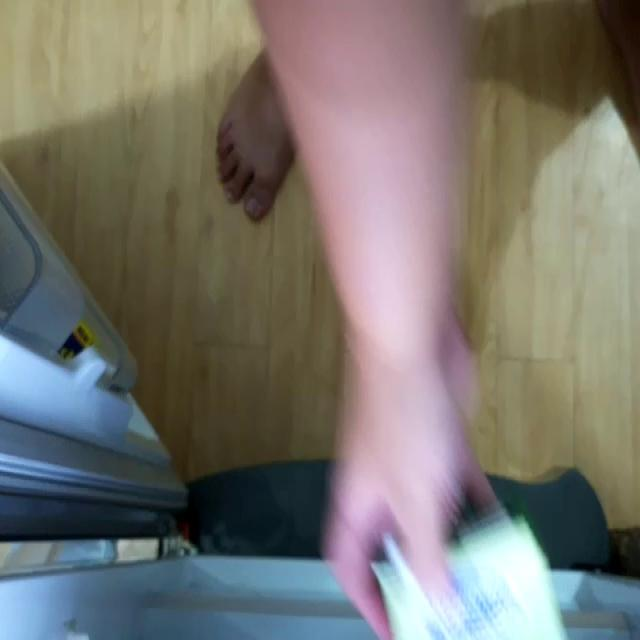milk: (374, 519, 554, 640)
